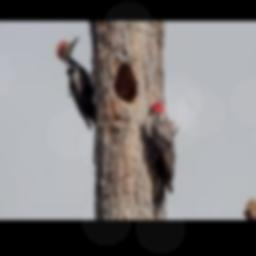Woodpecker: (55, 35, 96, 130), (145, 102, 175, 219)
